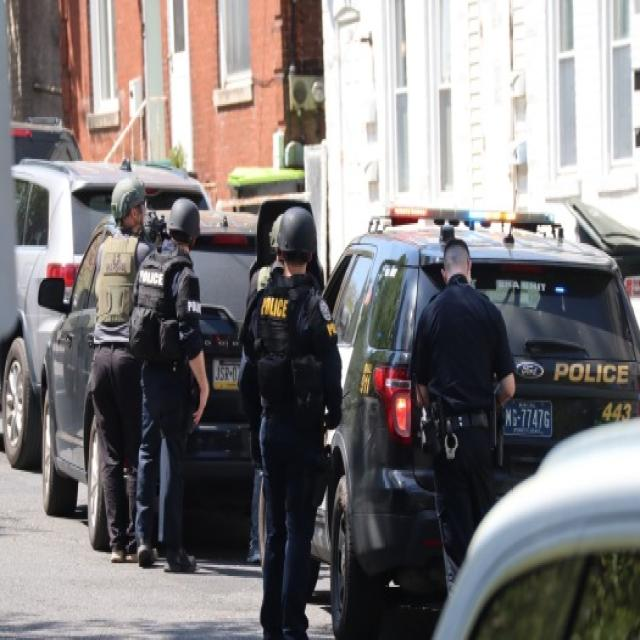police: (245, 202, 351, 640), (414, 225, 513, 619), (140, 188, 214, 575), (82, 172, 145, 562)
